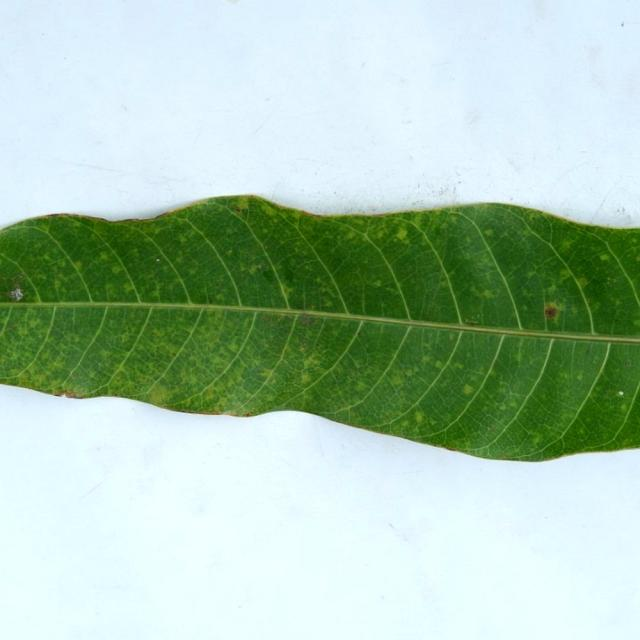Mango: (0, 196, 639, 459)
Powdery_Mildew: (356, 265, 405, 300), (550, 398, 586, 418), (146, 384, 173, 405), (277, 265, 297, 286), (182, 261, 202, 280), (461, 379, 478, 398), (298, 313, 318, 327), (55, 391, 86, 399), (202, 387, 218, 401), (234, 197, 249, 210), (260, 268, 275, 281), (9, 288, 24, 301), (211, 400, 227, 412), (544, 304, 557, 318), (247, 263, 261, 275), (371, 229, 385, 241), (395, 228, 408, 240), (389, 374, 403, 385), (300, 372, 312, 384), (259, 370, 275, 379), (281, 285, 293, 297), (414, 410, 425, 423), (576, 276, 589, 287), (559, 268, 572, 279), (262, 315, 279, 323), (443, 269, 455, 280), (481, 289, 494, 299), (123, 283, 136, 293), (398, 235, 411, 245), (318, 286, 331, 296), (355, 381, 367, 391), (345, 230, 357, 240), (560, 241, 572, 251), (54, 278, 63, 291), (464, 318, 480, 325), (421, 355, 432, 365), (589, 302, 600, 312), (513, 352, 523, 362), (546, 284, 557, 293), (526, 268, 537, 277), (599, 253, 611, 261), (112, 265, 122, 274), (100, 252, 110, 261), (532, 435, 542, 444), (240, 411, 255, 417), (444, 446, 458, 452), (575, 372, 584, 381), (621, 403, 630, 412), (614, 299, 623, 308), (372, 279, 382, 287), (453, 362, 463, 370), (487, 370, 497, 378), (323, 300, 333, 308), (7, 323, 18, 330), (75, 261, 83, 270), (401, 420, 410, 428), (508, 400, 517, 408), (317, 277, 325, 286), (483, 229, 493, 236), (435, 360, 443, 368), (423, 311, 432, 318), (225, 249, 233, 256), (300, 341, 307, 349), (15, 274, 24, 280), (487, 424, 494, 431), (625, 359, 632, 366), (234, 206, 242, 212), (71, 374, 79, 380), (499, 404, 506, 410), (307, 303, 314, 309), (262, 316, 269, 322), (585, 348, 591, 355), (59, 393, 67, 398), (635, 320, 640, 327), (613, 318, 621, 322), (619, 391, 624, 396), (258, 263, 262, 269), (263, 245, 267, 250), (156, 258, 160, 262), (638, 256, 640, 263)
